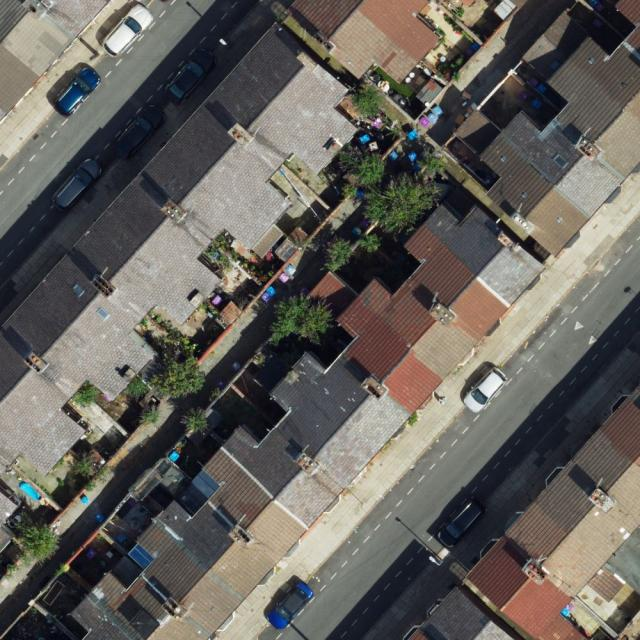roof: (70, 0, 640, 640), (0, 22, 358, 479), (465, 380, 640, 640), (0, 0, 112, 125), (291, 0, 440, 85), (410, 587, 519, 640), (1, 492, 18, 552)
skylight: (552, 153, 568, 169), (97, 307, 110, 321), (72, 283, 85, 297), (521, 192, 528, 200), (499, 155, 507, 162), (556, 216, 562, 223), (589, 58, 594, 63)
